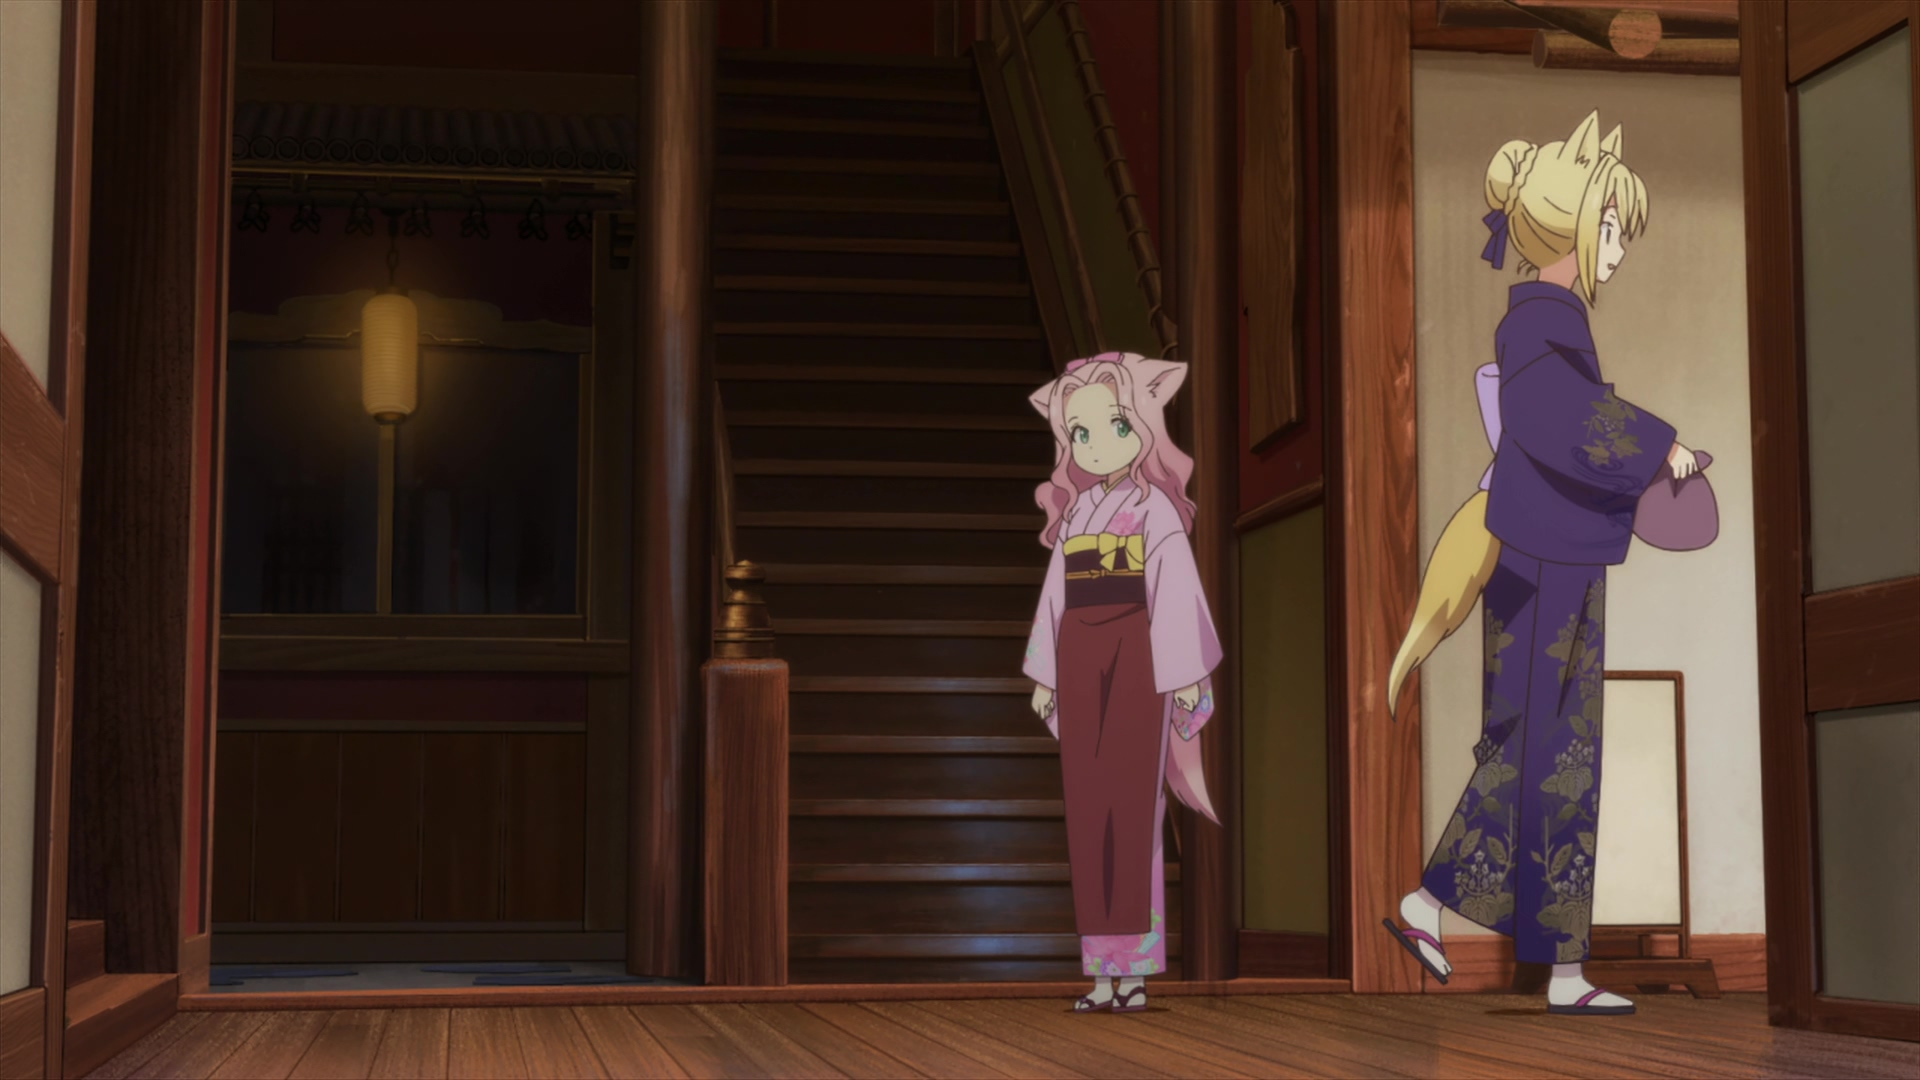桐: (1385, 113, 1717, 1017)
莲: (1021, 349, 1226, 1017)
